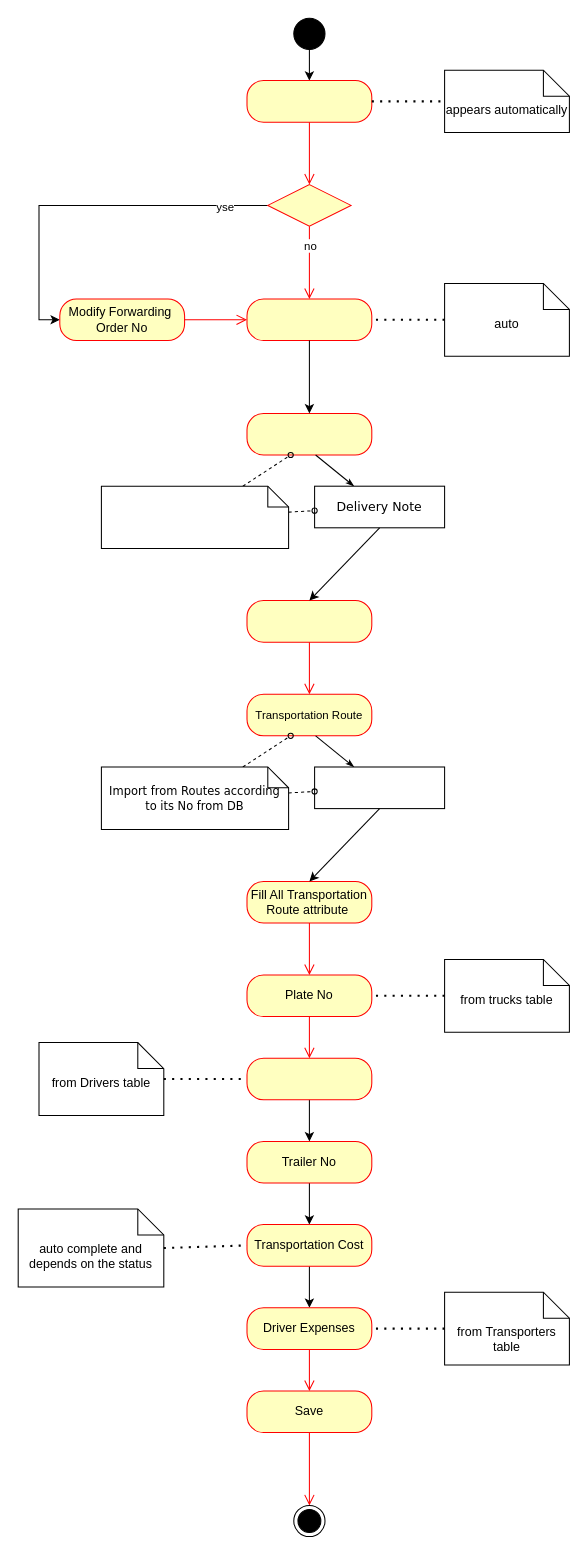
The diagram is 588 pixels wide and 1555 high, and some of its shapes have lost their labels. The shapes that lost their labels are listed below. From the top down, each one's box as (x1, y1, x2, y2) in pixels, then its label:
(246, 80, 372, 122): Forwarding Order No
(267, 184, 351, 226): Modify
(246, 298, 372, 341): Forwarding Order Date
(246, 412, 372, 455): Delivery Note number
(100, 485, 289, 549): Import from Delivery Note according to its No from DB
(246, 600, 372, 642): Fill All Delivery Note attribute
(314, 766, 445, 809): Routes
(246, 1057, 372, 1100): Driver Name
